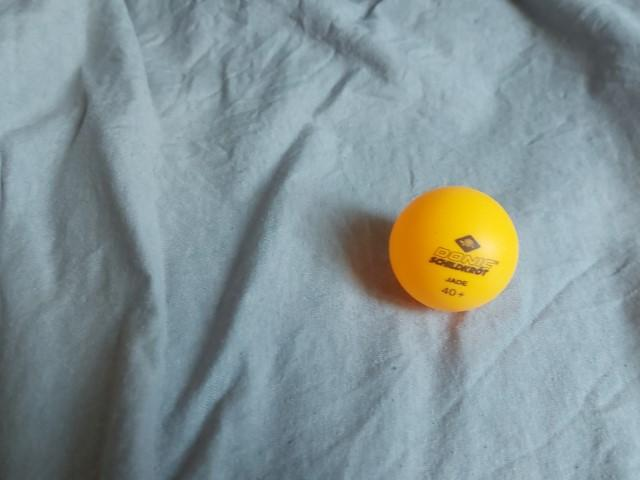oball: (381, 177, 529, 320)
